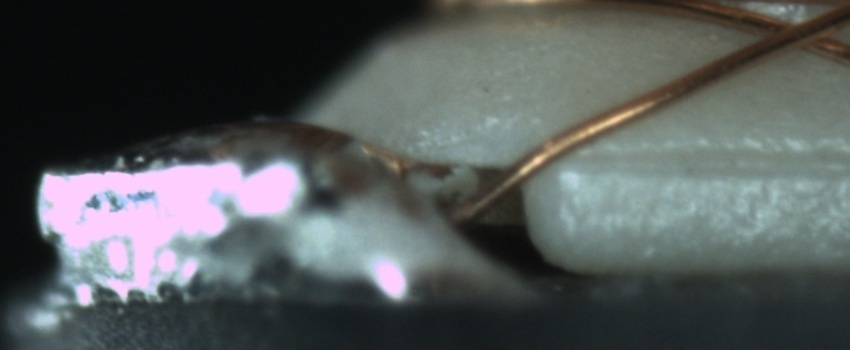CL: (750, 5, 843, 58)
DL: (566, 124, 845, 193)
